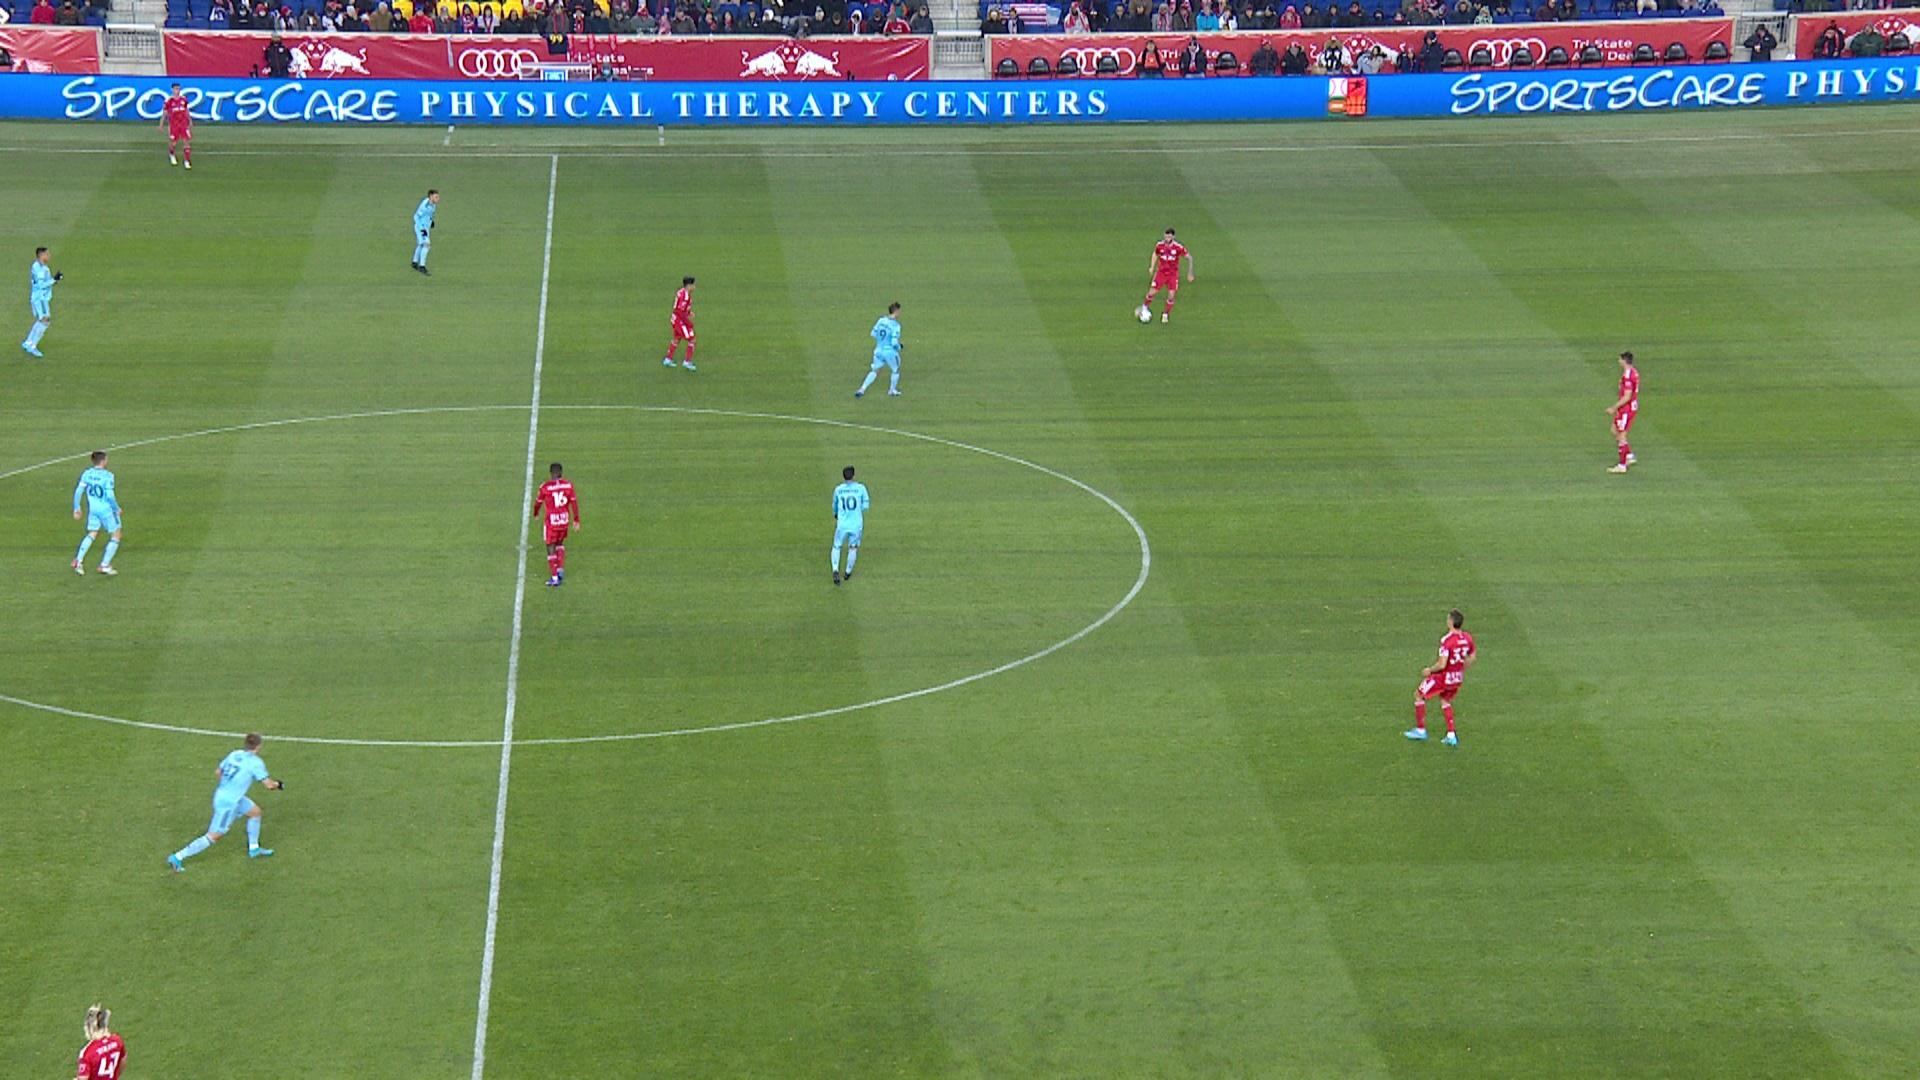football: (1138, 310, 1153, 323)
